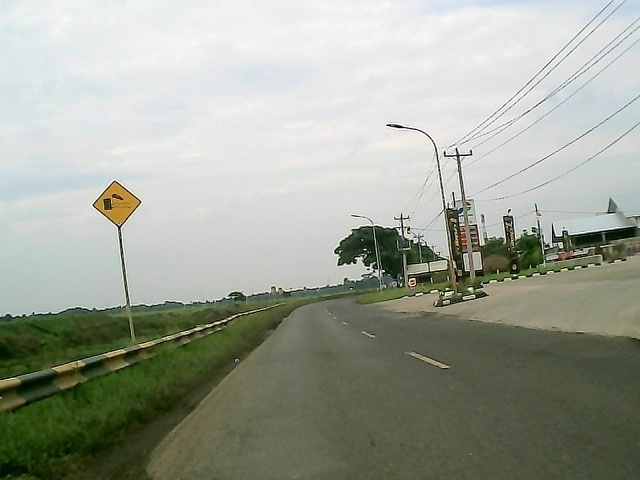Peringatan tepi air: (91, 178, 146, 228)
